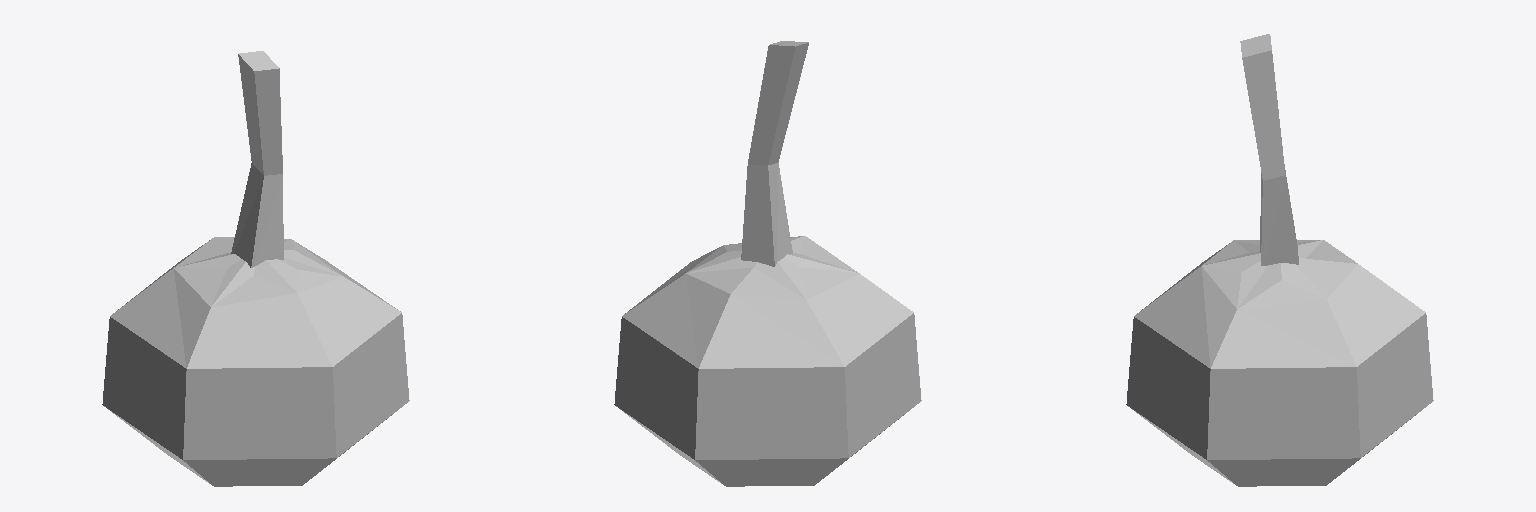
File: SM_Prop_Tomato_01_L.obj
3 views of the same model, side by side, from view 1: azimuth 30°, elevation 25°; view 2: azimuth 150°, elevation 25°; view 3: azimuth 270°, elevation 25° (orthographic).
Size of the model in its own units: 12.09 by 20.85 by 13.73.